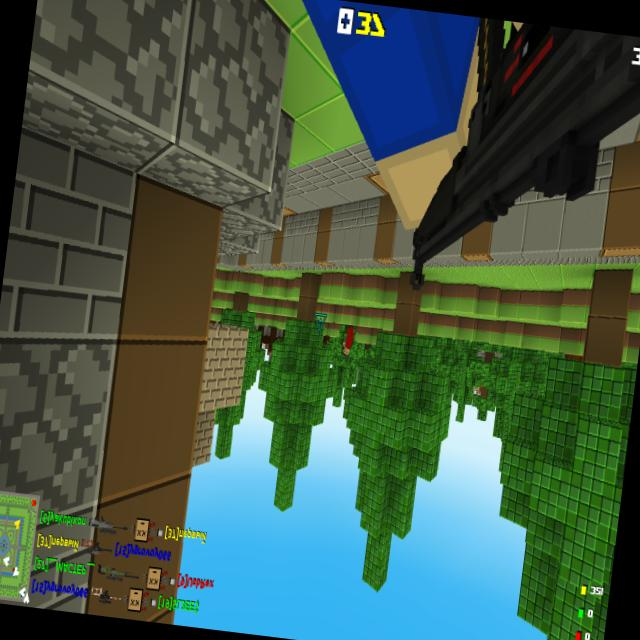enemy: (340, 326, 354, 356)
